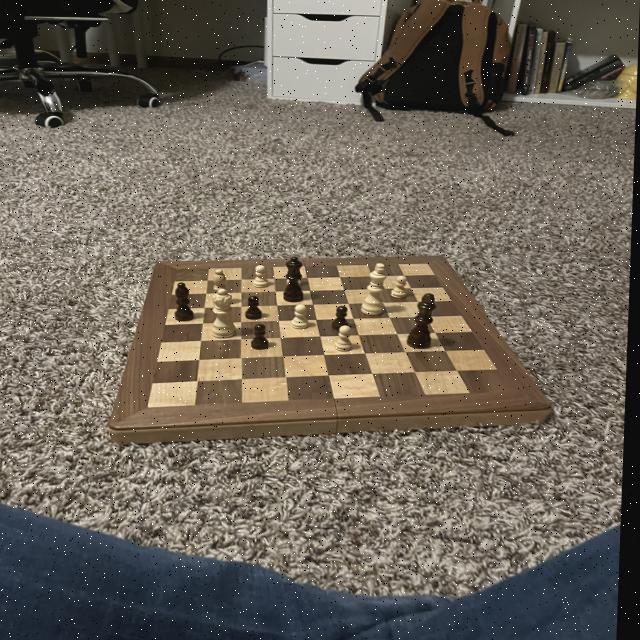bishop: (174, 279, 203, 324)
black-bishop: (406, 291, 443, 354)
black-knight: (252, 322, 275, 352), (391, 274, 414, 300), (247, 292, 268, 320), (333, 303, 354, 329)
black-pawn: (279, 254, 311, 303)
black-rook: (211, 266, 235, 315)
white-bishop: (363, 260, 390, 322)
white-knight: (334, 325, 359, 354), (285, 262, 308, 288), (292, 304, 313, 330), (254, 264, 273, 290)
white-pawn: (211, 288, 240, 340)
